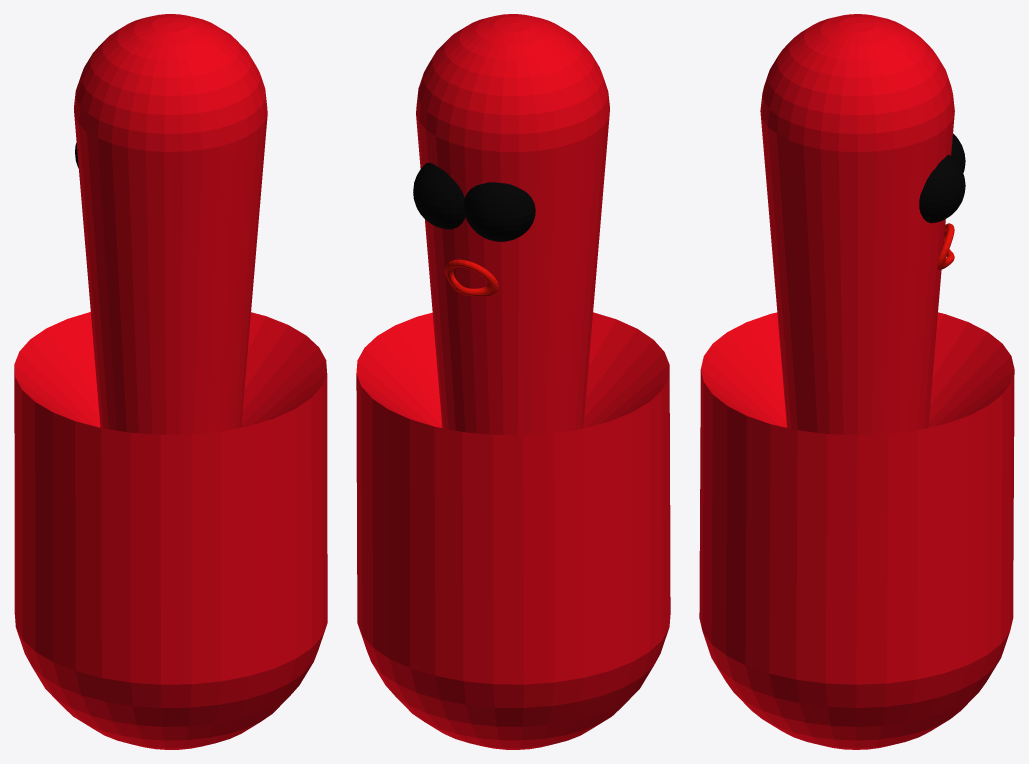
File: enemy8.fbx
3 views of the same model, side by side, from view 1: azimuth 30°, elevation 25°; view 2: azimuth 150°, elevation 25°; view 3: azimuth 270°, elevation 25° (orthographic).
Visible parts, largest first — view 1: Sphere; view 2: Sphere; view 3: Sphere.
Boxes of the visible parts, left/top/right/bottom form: Sphere: left=14, top=14, right=327, bottom=749; Sphere: left=356, top=14, right=670, bottom=749; Sphere: left=699, top=14, right=1014, bottom=749.
Bounding box in the file's own units: 196 × 491 × 197.
